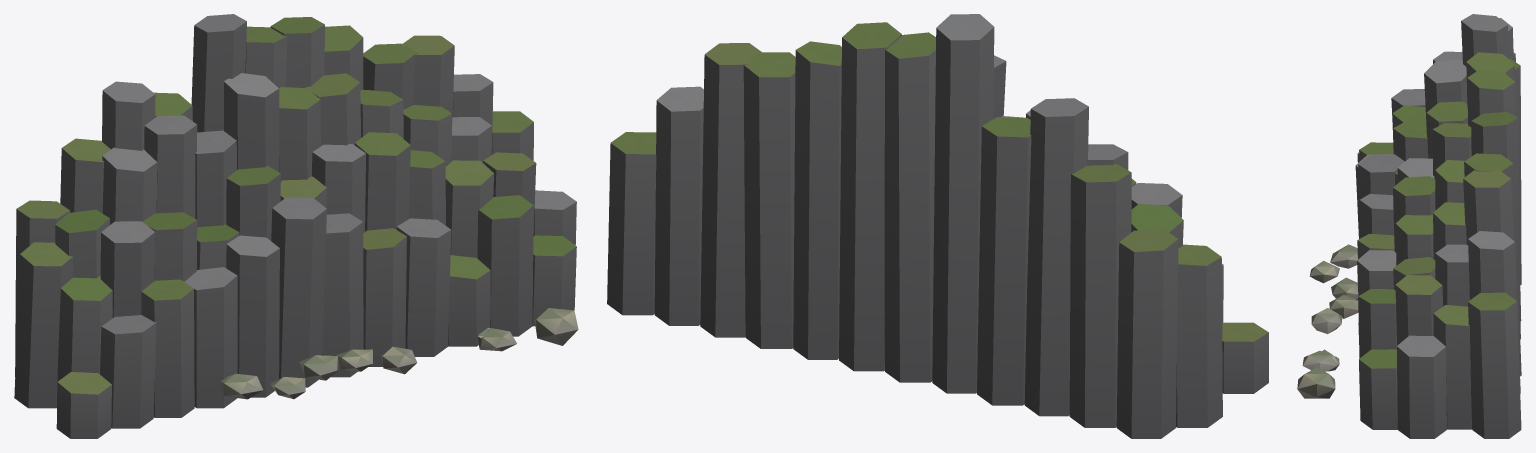
File: basalt_cliff_a.glb
3 views of the same model, side by side, from view 1: azimuth 30°, elevation 25°; view 2: azimuth 150°, elevation 25°; view 3: azimuth 270°, elevation 25° (orthographic). The views are drawn at different scales.
Parts seen in each view (by area): view 1: basalt_cliff_a; view 2: basalt_cliff_a; view 3: basalt_cliff_a.
Part boxes in pixels (x1=…): basalt_cliff_a: x1=14, y1=14, x2=578, y2=438; basalt_cliff_a: x1=607, y1=14, x2=1268, y2=438; basalt_cliff_a: x1=1297, y1=14, x2=1521, y2=438.
Bounding box in the file's own units: 7.81 × 4.53 × 3.25.
